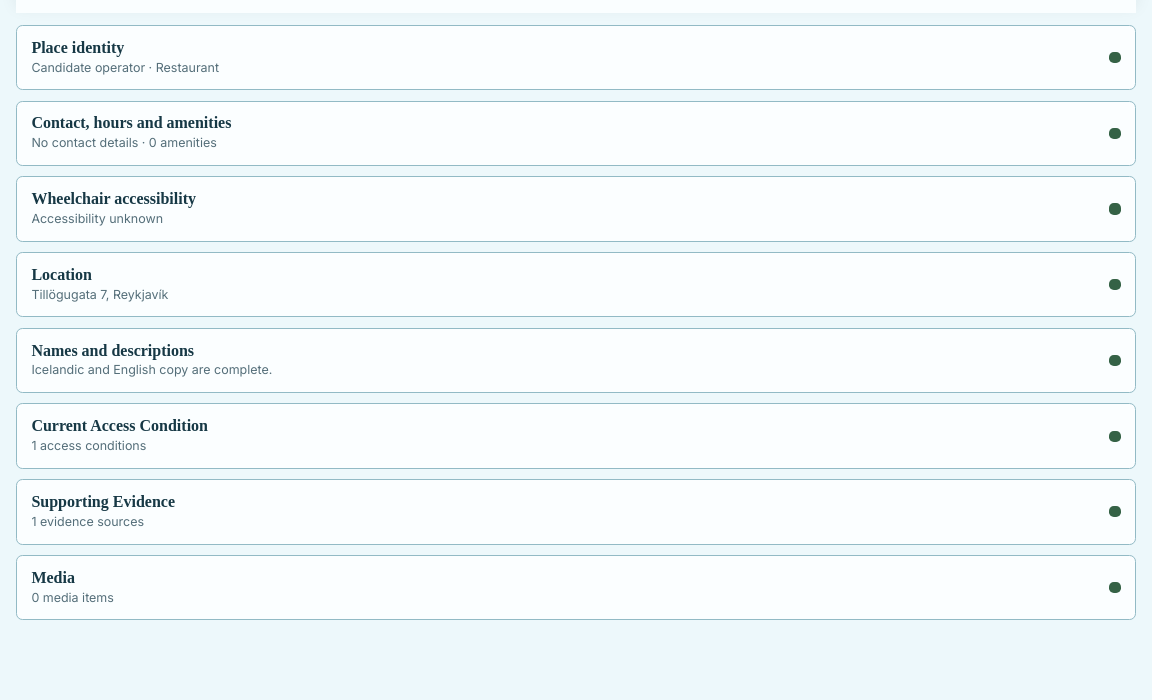
Test: Media section › shows clean empty states with no Evidence or Photos registered
(page scrolled)
Step 1. Click the text "Media" → (53, 577), box [31,569,75,586]
(page scrolled)
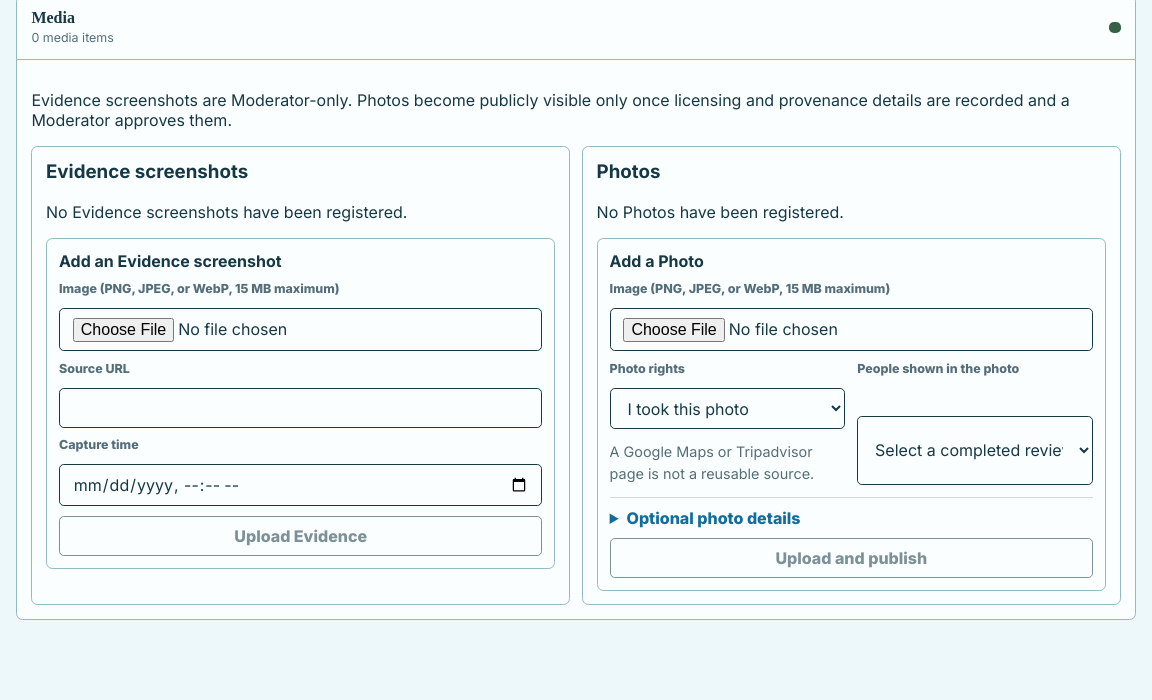
expect the text "No Evidence screenshots have been registered." is shown: met, box [46,202,407,222]
expect the text "No Photos have been registered." is shown: met, box [597,202,844,222]
expect the dropdown labelled "Photo rights" shows "I took this photo": met, box [610,388,845,430]
